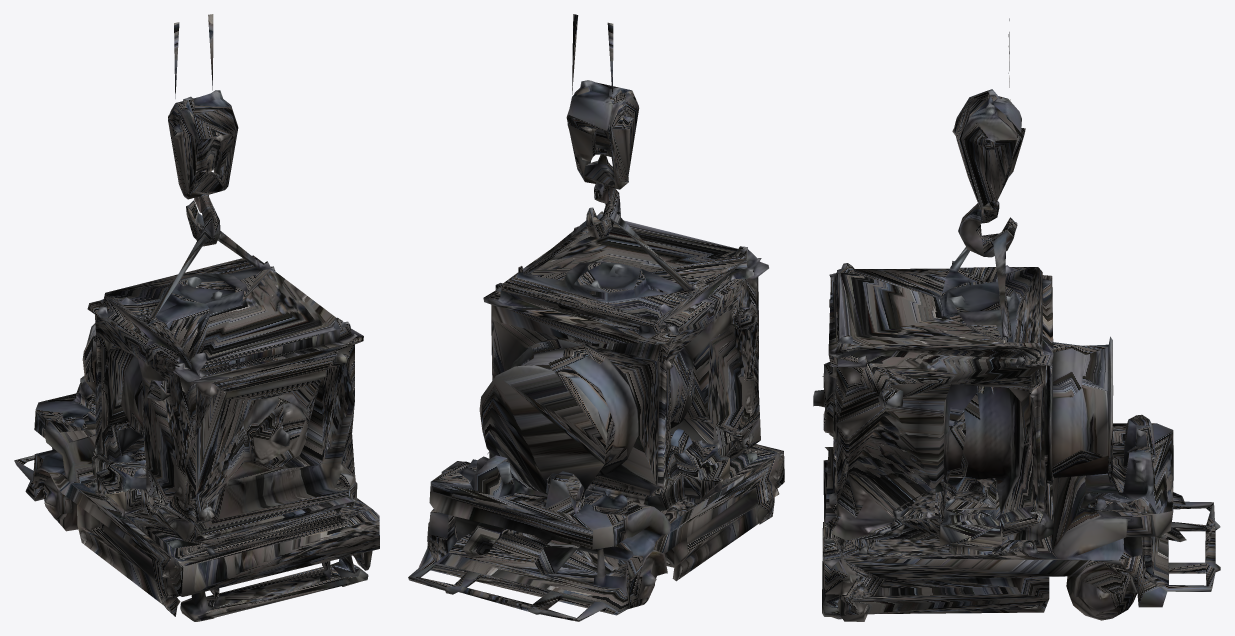
File: crane_hoist.glb
3 views of the same model, side by side, from view 1: azimuth 30°, elevation 25°; view 2: azimuth 150°, elevation 25°; view 3: azimuth 270°, elevation 25° (orthographic). The views are drawn at different scales.
Visible parts, largest first — view 1: tripo_node_17c98183-2b47-4080-8b7d-bdace0230a4b; view 2: tripo_node_17c98183-2b47-4080-8b7d-bdace0230a4b; view 3: tripo_node_17c98183-2b47-4080-8b7d-bdace0230a4b.
Part boxes in pixels (x1=…): tripo_node_17c98183-2b47-4080-8b7d-bdace0230a4b: x1=14, y1=14, x2=379, y2=621; tripo_node_17c98183-2b47-4080-8b7d-bdace0230a4b: x1=408, y1=14, x2=784, y2=621; tripo_node_17c98183-2b47-4080-8b7d-bdace0230a4b: x1=813, y1=18, x2=1220, y2=621.
Size of the model in its own units: 0.4291 by 0.9994 by 0.6679.
1 material, 1 textured.
